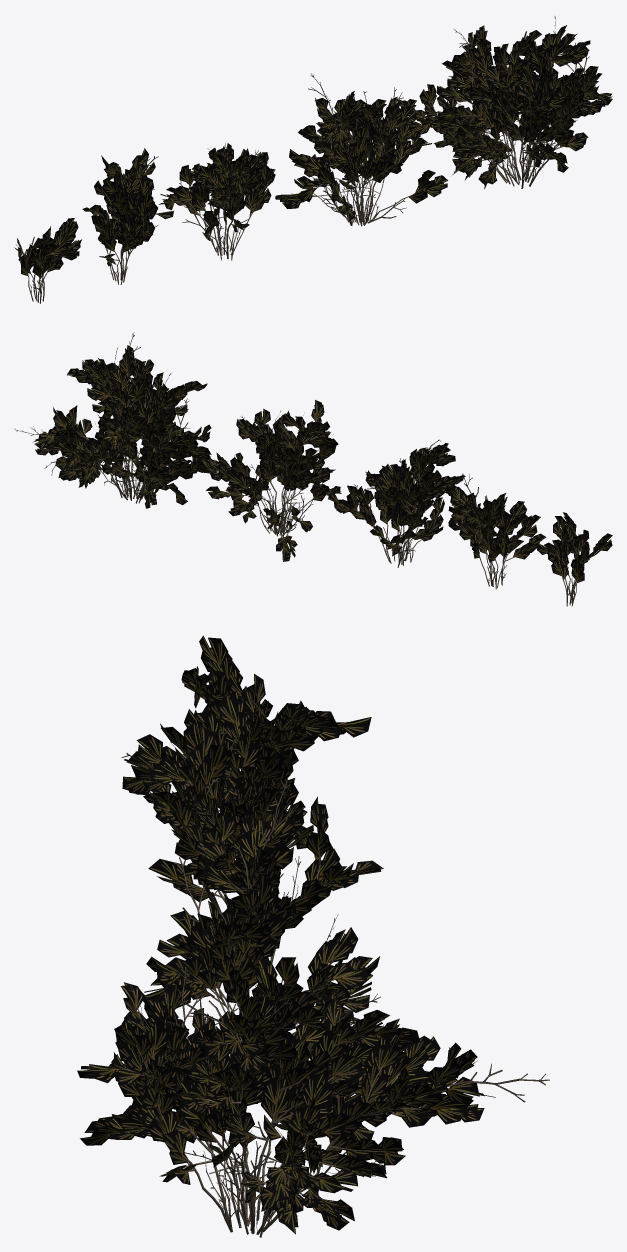
Rendered from wild_rooibos_bush.glb.
3 views of the same model, one above another, from view 1: azimuth 30°, elevation 25°; view 2: azimuth 150°, elevation 25°; view 3: azimuth 270°, elevation 25° (orthographic). The views are drawn at different scales.
Visible parts, largest first — view 1: wild_rooibos_bush_a, wild_rooibos_bush_b, wild_rooibos_bush_c, wild_rooibos_bush_d, wild_rooibos_bush_e; view 2: wild_rooibos_bush_a, wild_rooibos_bush_b, wild_rooibos_bush_c, wild_rooibos_bush_d, wild_rooibos_bush_e; view 3: wild_rooibos_bush_a, wild_rooibos_bush_b, wild_rooibos_bush_c, wild_rooibos_bush_d, wild_rooibos_bush_e.
Boxes of the visible parts, x1=… form: wild_rooibos_bush_a: x1=397, y1=16, x2=612, y2=189; wild_rooibos_bush_b: x1=275, y1=73, x2=447, y2=226; wild_rooibos_bush_c: x1=158, y1=143, x2=275, y2=260; wild_rooibos_bush_d: x1=82, y1=148, x2=173, y2=284; wild_rooibos_bush_e: x1=14, y1=218, x2=81, y2=303; wild_rooibos_bush_a: x1=14, y1=332, x2=218, y2=508; wild_rooibos_bush_b: x1=201, y1=400, x2=341, y2=561; wild_rooibos_bush_c: x1=328, y1=439, x2=465, y2=567; wild_rooibos_bush_d: x1=445, y1=473, x2=546, y2=589; wild_rooibos_bush_e: x1=537, y1=512, x2=612, y2=606; wild_rooibos_bush_a: x1=77, y1=958, x2=549, y2=1237; wild_rooibos_bush_b: x1=140, y1=778, x2=379, y2=1038; wild_rooibos_bush_c: x1=121, y1=718, x2=383, y2=963; wild_rooibos_bush_d: x1=160, y1=674, x2=371, y2=811; wild_rooibos_bush_e: x1=181, y1=635, x2=272, y2=755.
Bounding box in the file's own units: 2.28 × 0.5413 × 0.8434.
3 materials, 3 textured.
